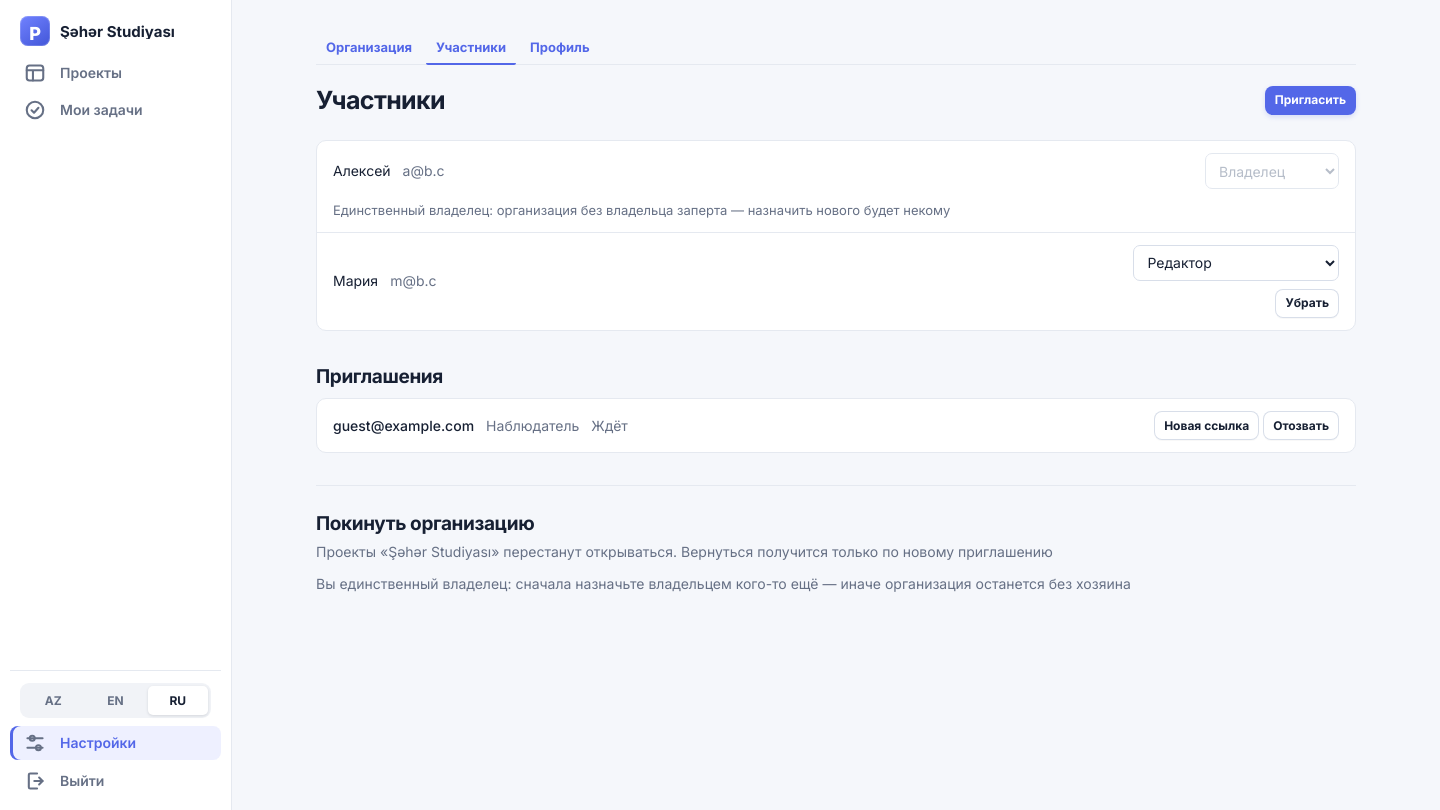
экран участников › повторный выпуск спрашивает и показывает новую ссылку
Click the button "Новая ссылка": point(1207, 426) [1154,412,1259,440]
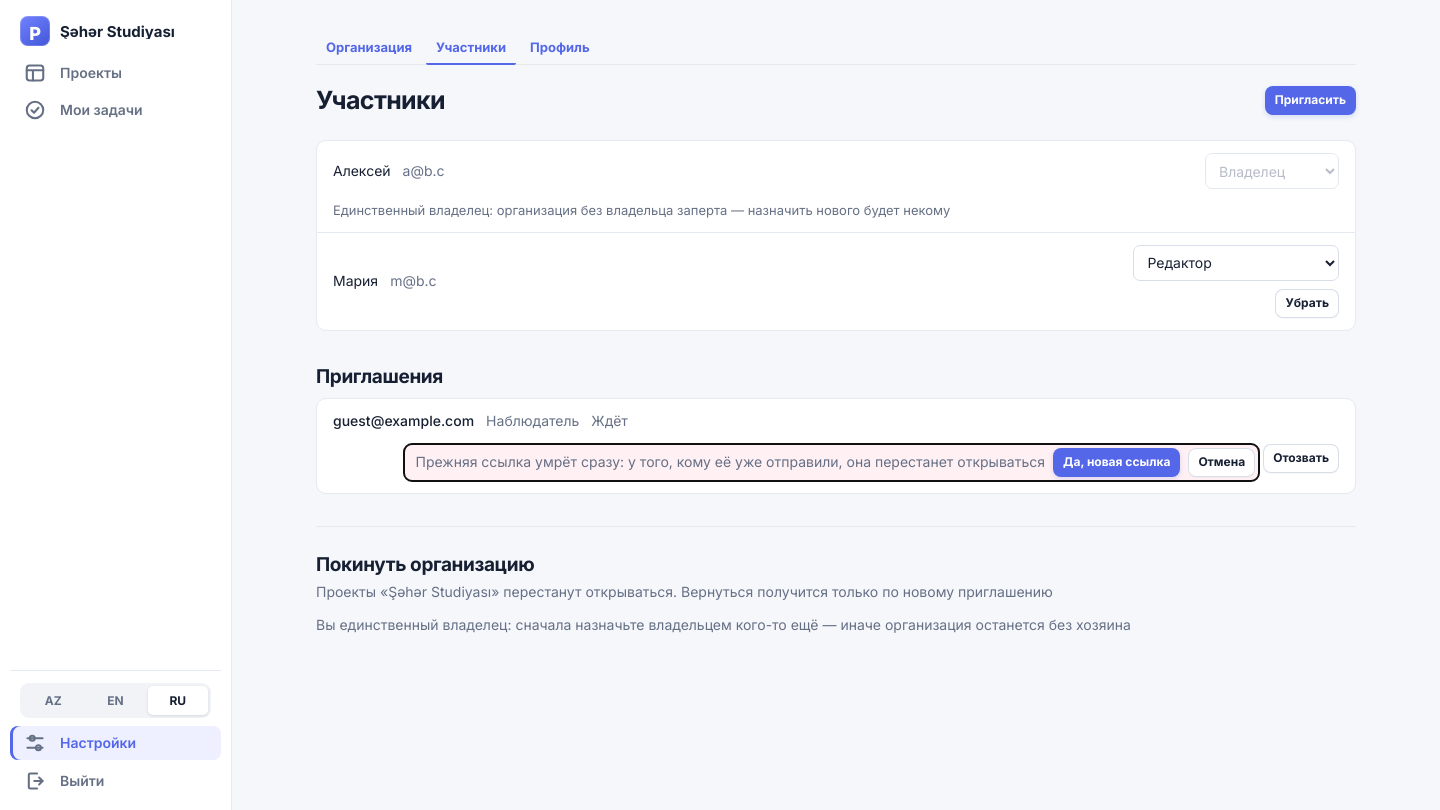
Now the text "Прежняя ссылка умрёт сразу" is shown, box [416,453,1045,470]
Click the button "Да, новая ссылка": point(1117, 462) [1053,448,1180,477]
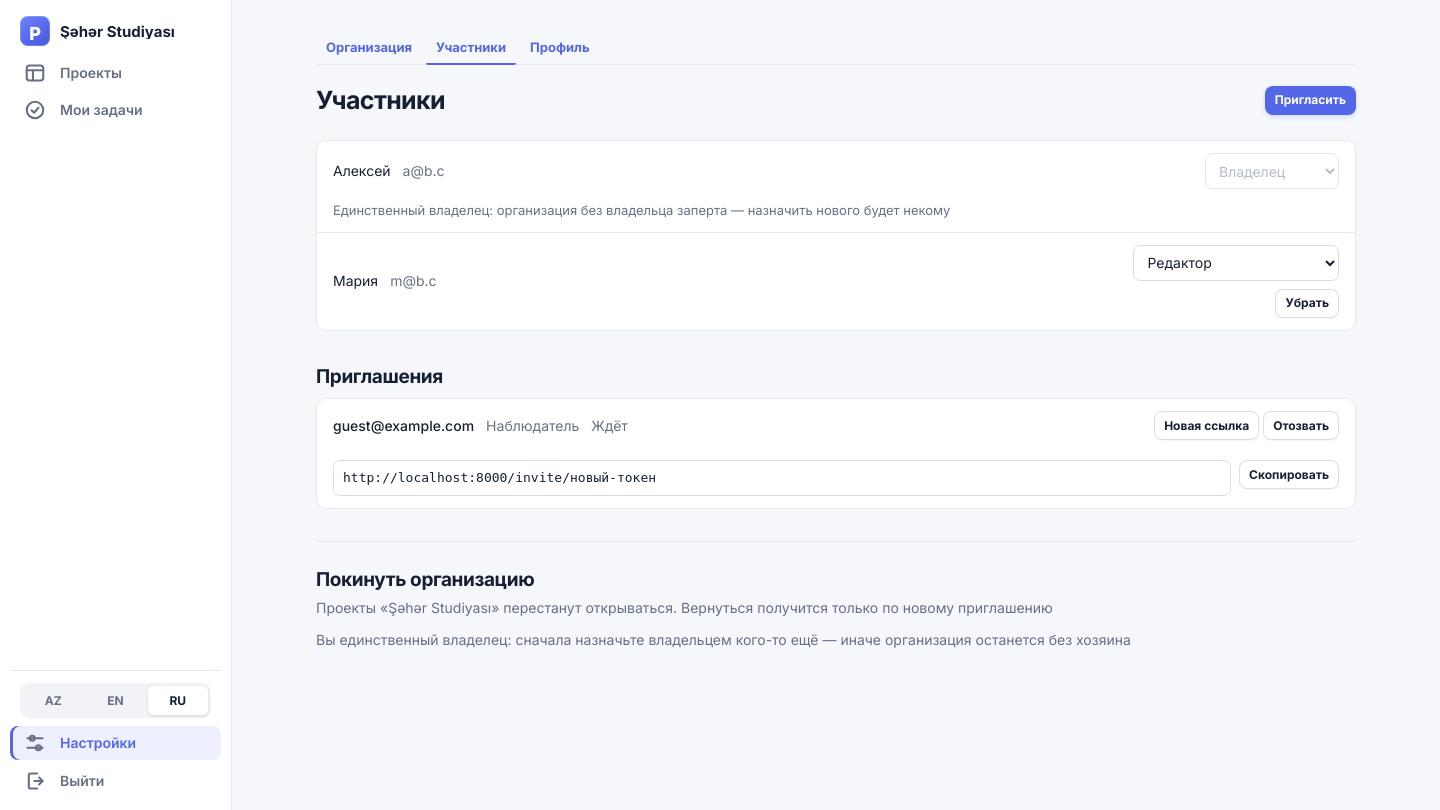
Now the field named "ссылка приглашения" holds "http://localhost:8000/invite/новый-токен", box [333,460,1231,496]
